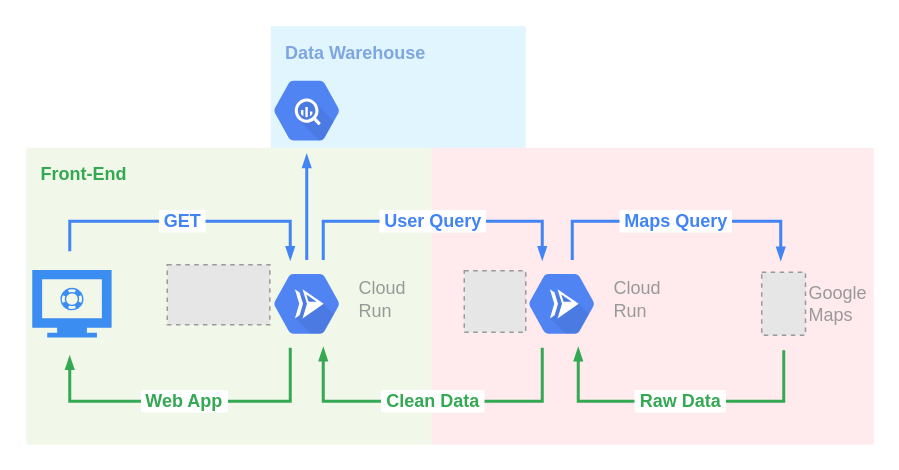
Image size: 899x470. Some labels were removed from this diagram. Grey dashed boxes stand in for pictures. The shapes that lost their labels are listed below. From the top down, each one's box as (x1, y1, x2, y2) in pixels, then its label:
(256, 66, 356, 154): BigQuery
(430, 147, 873, 444): Back-End
